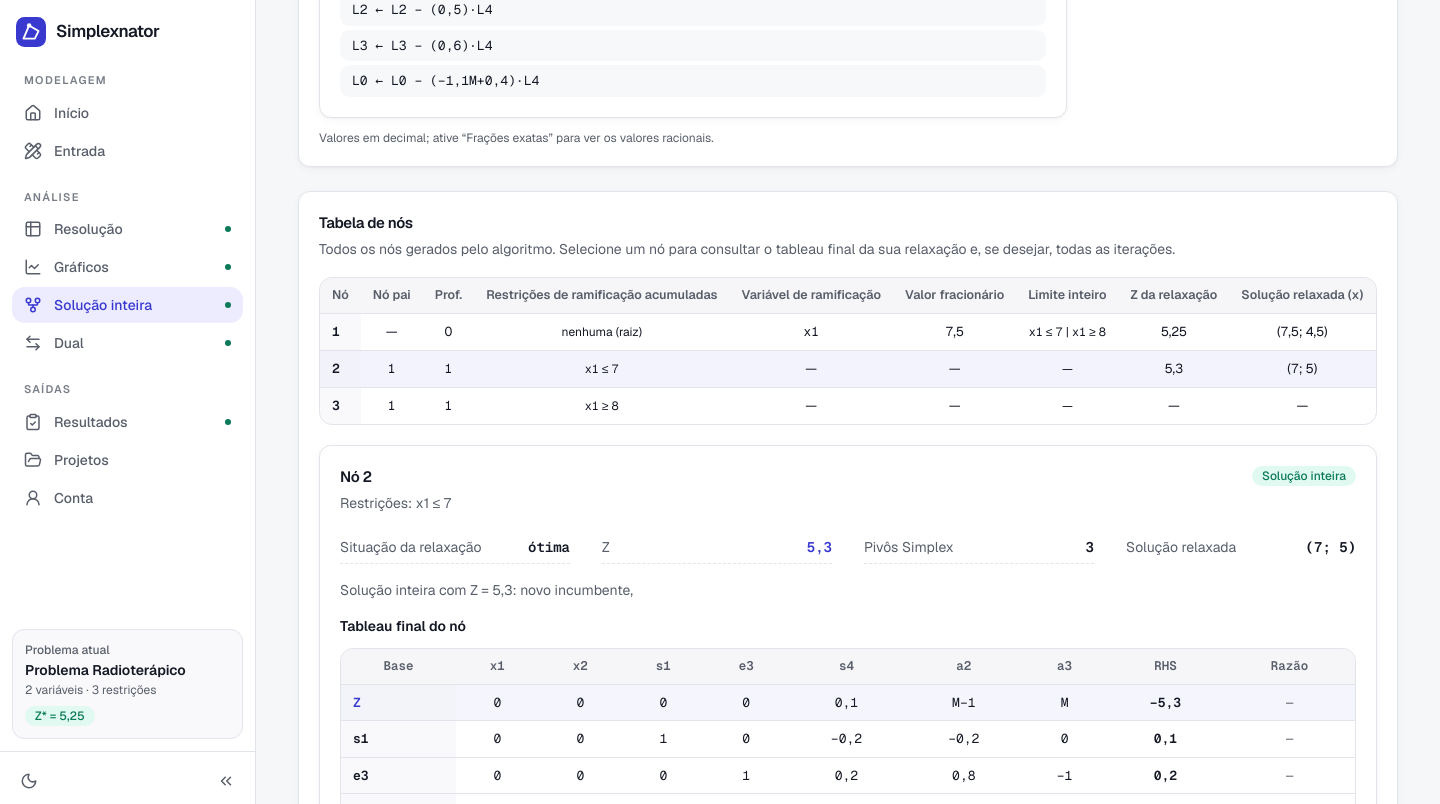
Test: Branch and Bound detalhado — Problema Radioterápico (minimização) › seleciona outro nó (inviável) e mostra seu tableau e sua situação
(page scrolled)
Click the button "3": (336, 406) [332,396,340,415]
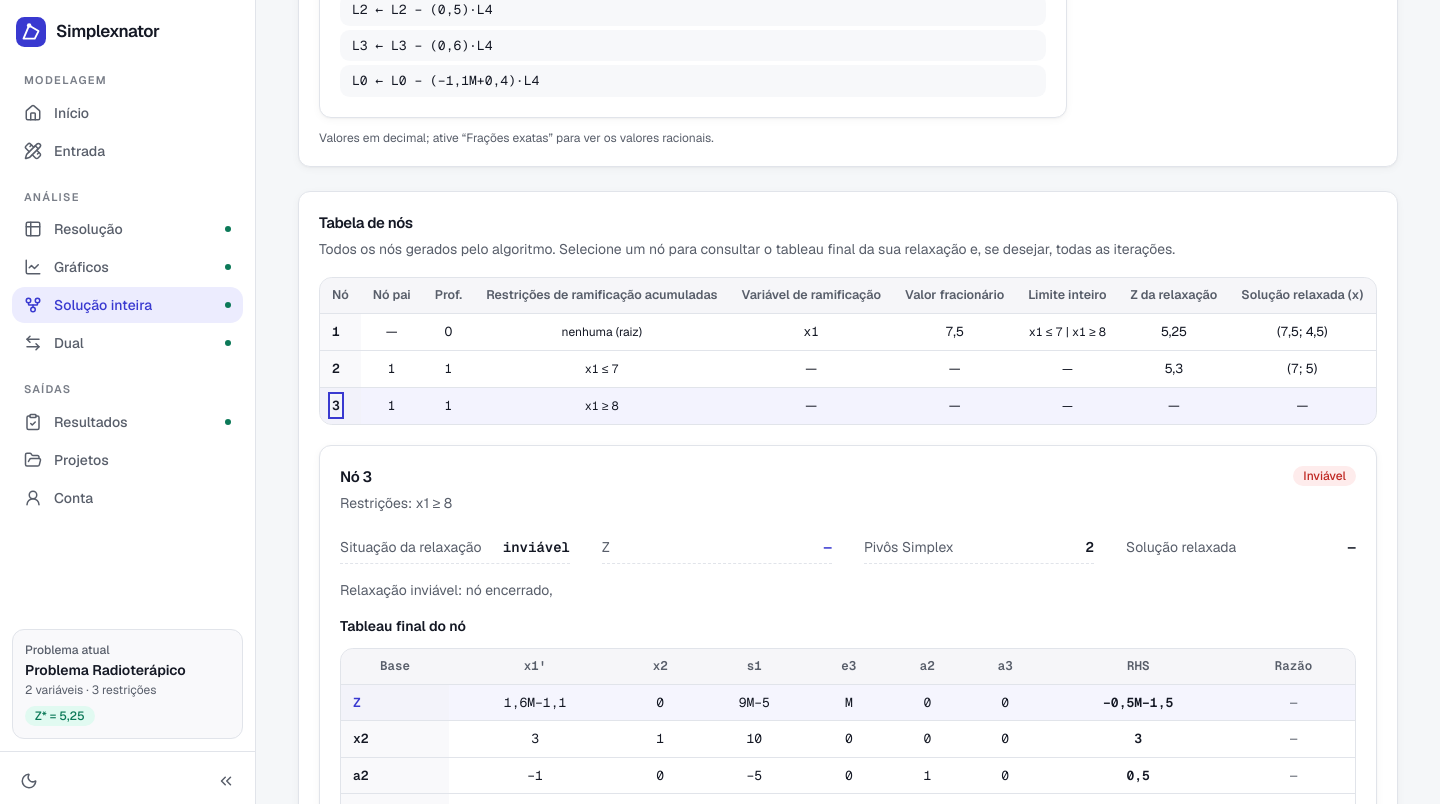
Expected: the heading "Tableau final do nó" is shown, [340,617,466,635]
Now the text "Restrições: x1 ≥ 8" is shown, box [340,492,452,515]
